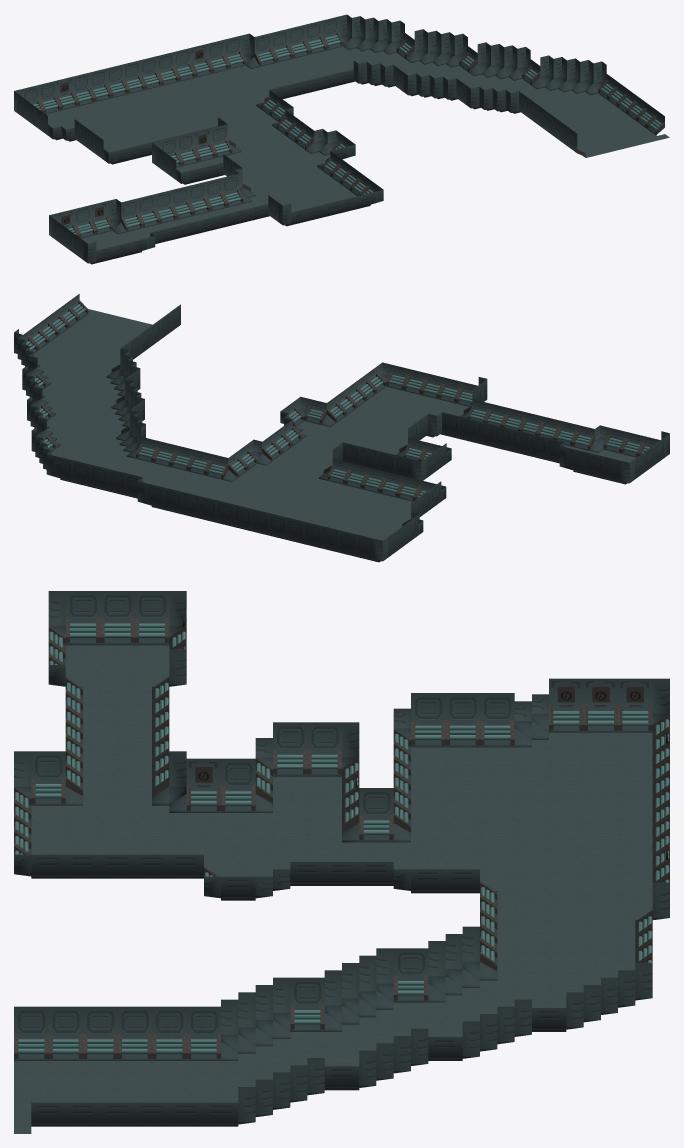
The model's file is MK_Ship_Level1_final.fbx.
3 renders of one model, top to bottom at view 1: azimuth 30°, elevation 25°; view 2: azimuth 150°, elevation 25°; view 3: azimuth 270°, elevation 25°, orthographic. The views are drawn at different scales.
Parts seen in each view (by area): view 1: MK_Ship_Wall45, MK_Ship_Wall11, MK_Ship_Wall36, MK_Ship_Wall41, MK_Ship_Wall43, MK_Ship_Wall07, MK_Ship_Wall10, MK_Ship_Wall35, MK_Ship_Wall37, MK_Ship_Wall46, MK_Ship_Wall44, MK_Ship_Wall12 (+17 smaller); view 2: MK_Ship_Wall01_Short3, MK_Ship_Wall01_Short36, MK_Ship_Wall01_Short23, MK_Ship_Wall01_Short12, MK_Ship_Wall01_Short2, MK_Ship_Wall35, MK_Ship_Wall42, MK_Ship_Wall01, MK_Ship_Wall31, MK_Ship_Wall01_Short14, MK_Ship_Wall01_Short39, MK_Ship_Wall01_Short27 (+32 smaller); view 3: MK_Ship_Wall49, MK_Ship_Wall04, MK_Ship_Wall06, MK_Ship_Wall05, MK_Ship_Wall15, MK_Ship_Wall16, MK_Ship_Wall17, MK_Ship_Wall23, MK_Ship_Wall24, MK_Ship_Wall26, MK_Ship_Wall29, MK_Ship_Wall30 (+43 smaller).
Boxes of the visible parts, x1=… form: MK_Ship_Wall45: x1=254, y1=33, x2=276, y2=66; MK_Ship_Wall11: x1=188, y1=182, x2=210, y2=215; MK_Ship_Wall36: x1=106, y1=64, x2=128, y2=98; MK_Ship_Wall41: x1=190, y1=44, x2=212, y2=77; MK_Ship_Wall43: x1=207, y1=40, x2=229, y2=73; MK_Ship_Wall07: x1=121, y1=198, x2=142, y2=232; MK_Ship_Wall10: x1=171, y1=186, x2=193, y2=219; MK_Ship_Wall35: x1=89, y1=68, x2=111, y2=102; MK_Ship_Wall37: x1=123, y1=60, x2=144, y2=93; MK_Ship_Wall46: x1=271, y1=29, x2=292, y2=62; MK_Ship_Wall44: x1=224, y1=35, x2=245, y2=69; MK_Ship_Wall12: x1=205, y1=178, x2=226, y2=211; MK_Ship_Wall01_Short3: x1=572, y1=425, x2=594, y2=450; MK_Ship_Wall01_Short36: x1=206, y1=454, x2=228, y2=479; MK_Ship_Wall01_Short23: x1=304, y1=399, x2=326, y2=424; MK_Ship_Wall01_Short12: x1=438, y1=377, x2=461, y2=403; MK_Ship_Wall01_Short2: x1=603, y1=427, x2=626, y2=453; MK_Ship_Wall35: x1=286, y1=517, x2=309, y2=545; MK_Ship_Wall42: x1=321, y1=526, x2=344, y2=553; MK_Ship_Wall01: x1=585, y1=452, x2=608, y2=479; MK_Ship_Wall31: x1=356, y1=534, x2=379, y2=562; MK_Ship_Wall01_Short14: x1=403, y1=369, x2=426, y2=394; MK_Ship_Wall01_Short39: x1=153, y1=441, x2=175, y2=467; MK_Ship_Wall01_Short27: x1=327, y1=459, x2=349, y2=484; MK_Ship_Wall49: x1=393, y1=948, x2=428, y2=1002; MK_Ship_Wall04: x1=134, y1=591, x2=169, y2=645; MK_Ship_Wall06: x1=65, y1=591, x2=100, y2=645; MK_Ship_Wall05: x1=100, y1=591, x2=134, y2=645; MK_Ship_Wall15: x1=221, y1=758, x2=255, y2=812; MK_Ship_Wall16: x1=273, y1=722, x2=307, y2=776; MK_Ship_Wall17: x1=307, y1=722, x2=341, y2=776; MK_Ship_Wall23: x1=359, y1=788, x2=393, y2=842; MK_Ship_Wall24: x1=411, y1=693, x2=445, y2=747; MK_Ship_Wall26: x1=480, y1=693, x2=514, y2=747; MK_Ship_Wall29: x1=549, y1=678, x2=583, y2=732; MK_Ship_Wall30: x1=618, y1=678, x2=652, y2=732.
Size of the model in its own units: 1700 by 75 by 950.
